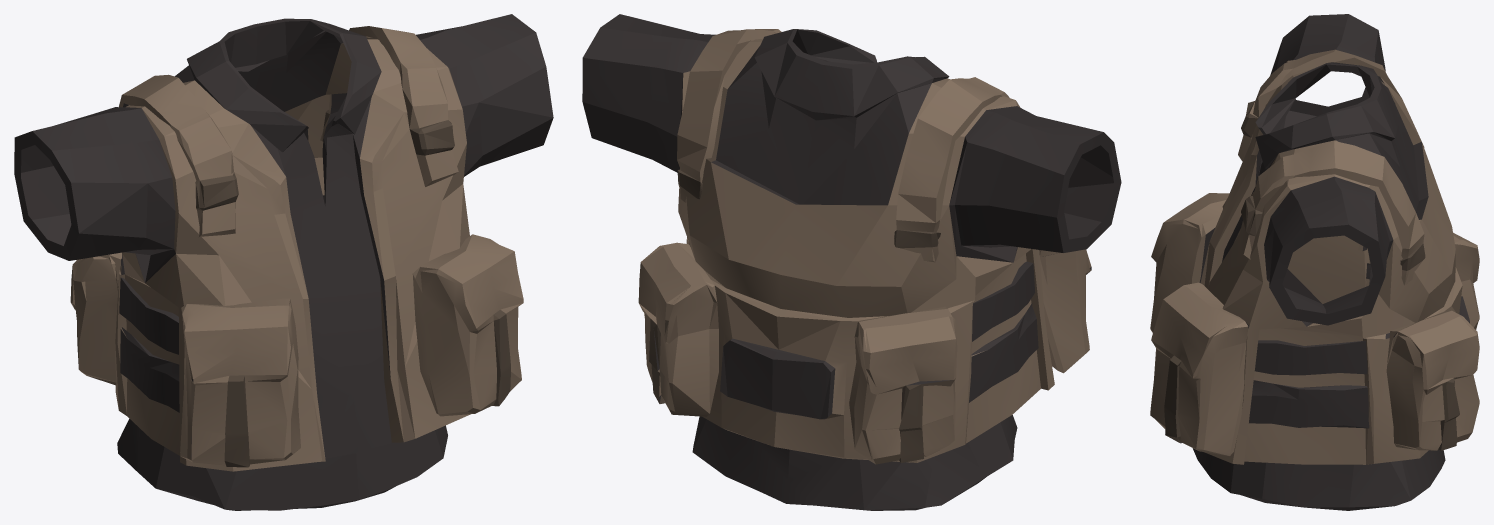
File: shirt3.fbx
The picture shows the model from 3 angles, left to right: view 1: azimuth 30°, elevation 25°; view 2: azimuth 150°, elevation 25°; view 3: azimuth 270°, elevation 25°; orthographic projection. The views are drawn at different scales.
Visible parts, largest first — view 1: shirt3; view 2: shirt3; view 3: shirt3.
Part boxes in pixels (<box>): shirt3: <box>14,14,553,510</box>; shirt3: <box>582,14,1121,510</box>; shirt3: <box>1150,14,1479,510</box>.
Bounding box in the file's own units: 189 × 155 × 124.
